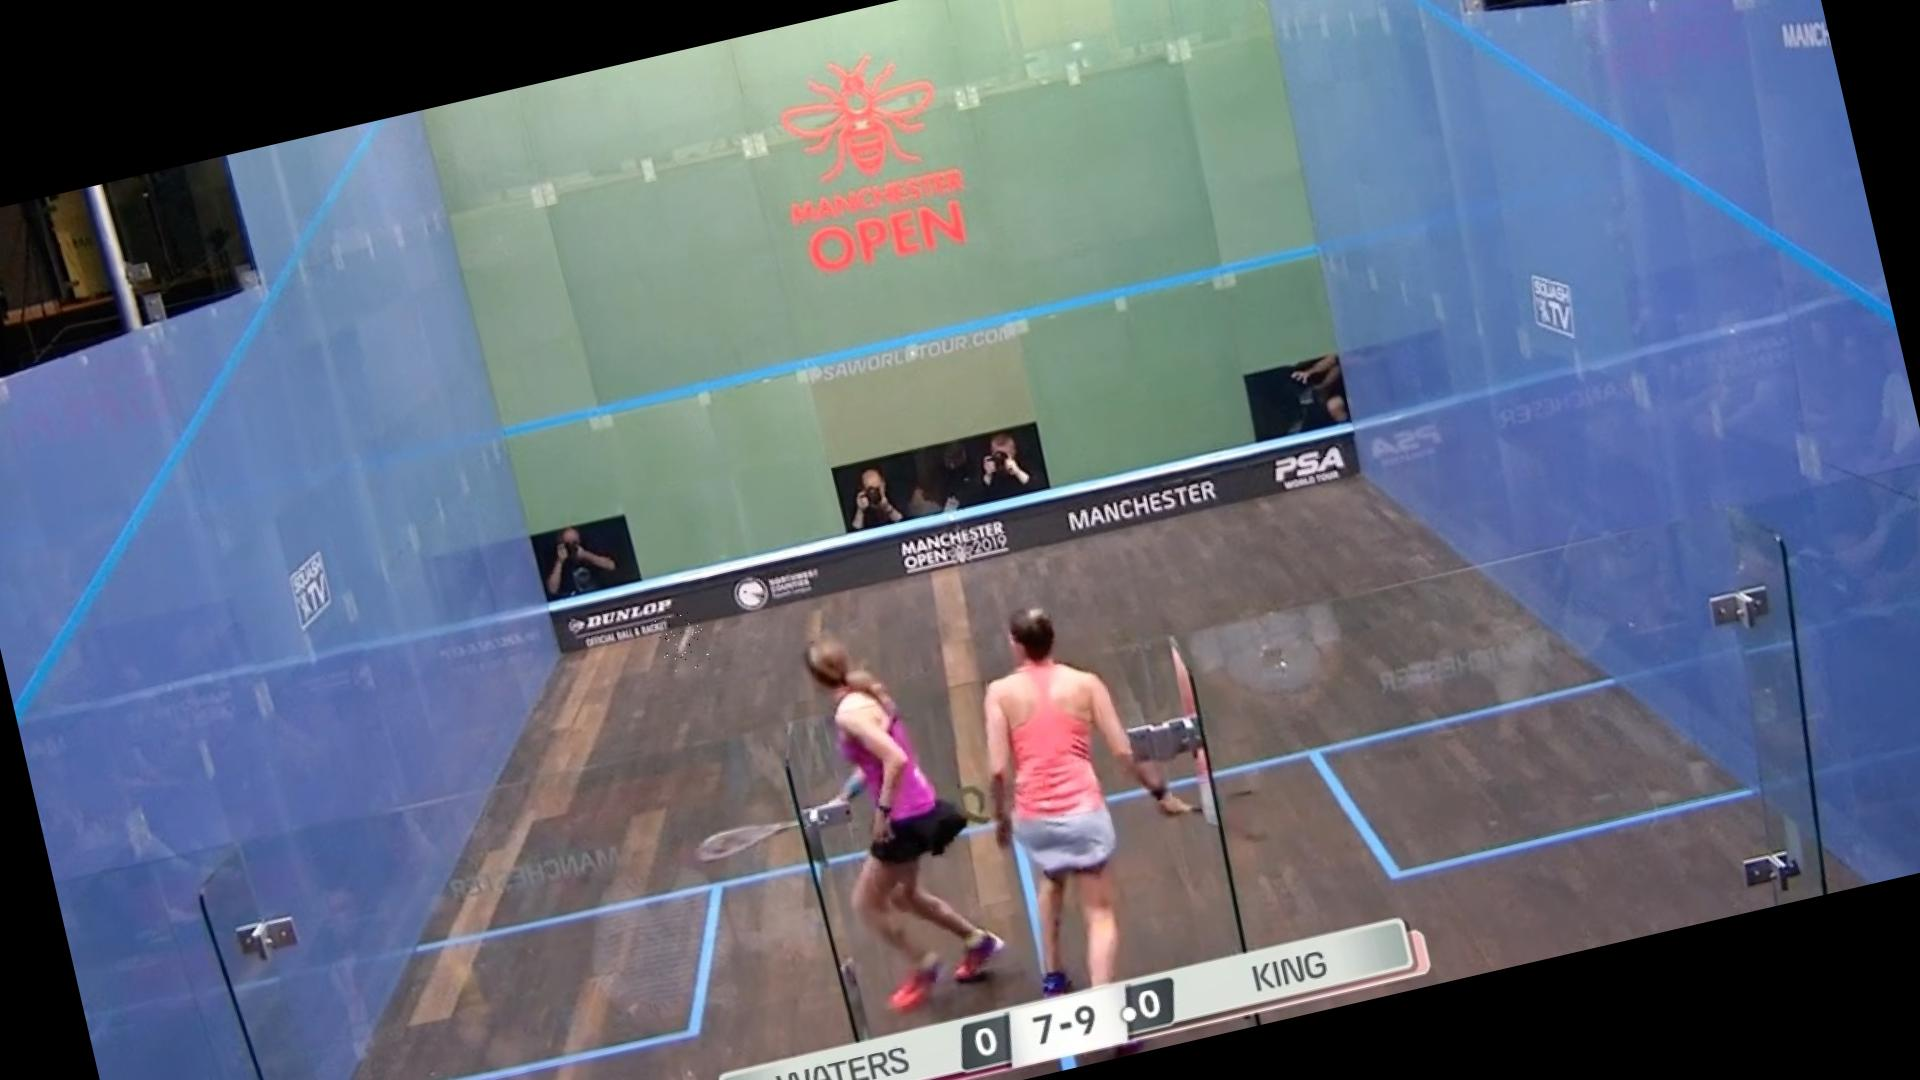Squash-Ball: (653, 607, 717, 675)
